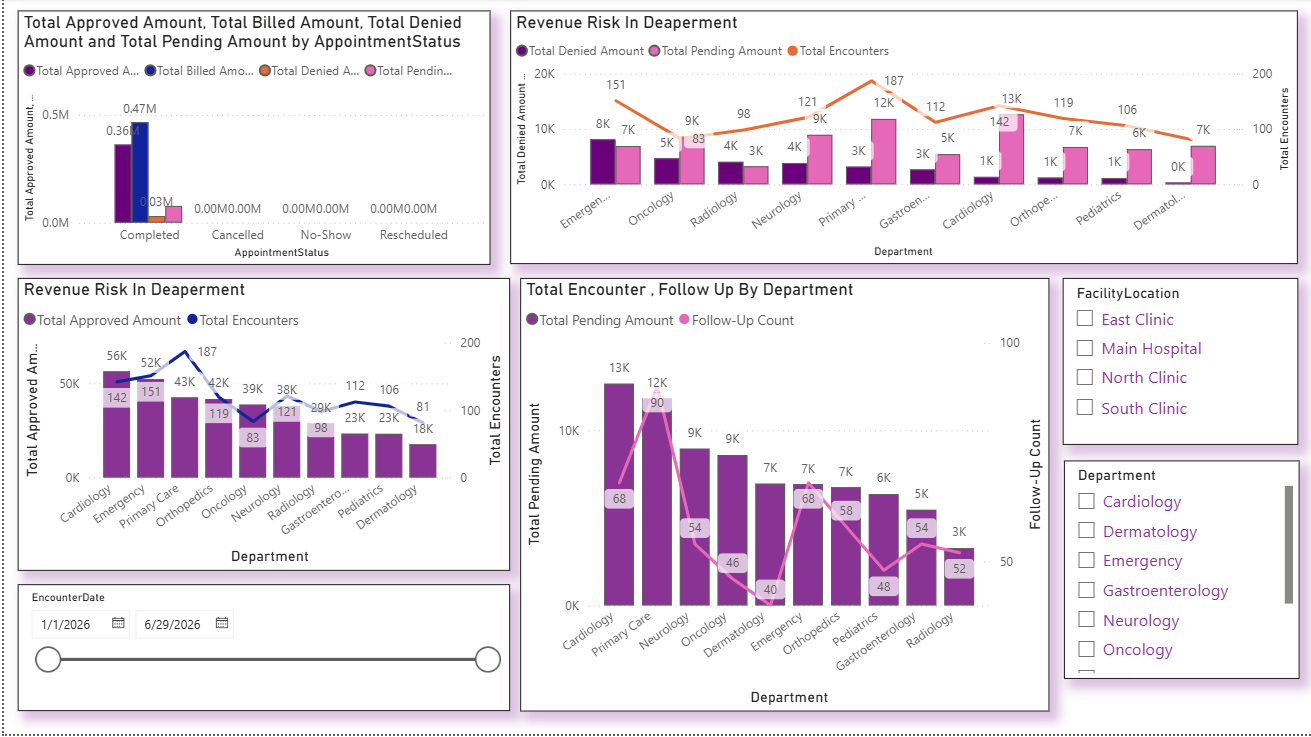

Layout of this report page (visuals, bound fields, positions):
{"tool":"powerbi","page":{"name":"Revenue","canvas":[1280,720],"ordinal":4},"visuals":[{"type":"clusteredColumnChart","fields":{"Y":["ClaimsTable.Total Approved Amount","ClaimsTable.Total Billed Amount","ClaimsTable.Total Denied Amount","ClaimsTable.Total Pending Amount"],"Category":["EncountersTable.AppointmentStatus"]},"box":[13.7,12.4,462.8,248.8],"z":0},{"type":"lineClusteredColumnComboChart","title":"Revenue Risk In Deaperment ","fields":{"Category":["ClaimsTable.Department"],"Y":["ClaimsTable.Total Denied Amount","ClaimsTable.Total Pending Amount"],"Y2":["ClaimsTable.Total Encounters"]},"box":[495.2,12.2,770.4,248.2],"z":1000},{"type":"lineClusteredColumnComboChart","title":"Revenue Risk In Deaperment ","fields":{"Category":["ClaimsTable.Department"],"Y":["ClaimsTable.Total Approved Amount"],"Y2":["ClaimsTable.Total Encounters"]},"box":[13.7,273.7,481.4,286.1],"z":2000},{"type":"slicer","fields":{"Values":["EncountersTable.EncounterDate"]},"box":[13.7,573.5,481.4,124.4],"z":3000},{"type":"lineStackedColumnComboChart","title":"Total Encounter , Follow Up By Department ","fields":{"Category":["ClaimsTable.Department"],"Y":["ClaimsTable.Total Pending Amount"],"Y2":["ClaimsTable.Follow-Up Count"]},"box":[505,273.7,517.5,424.2],"z":4000},{"type":"slicer","fields":{"Values":["EncountersTable.FacilityLocation"]},"box":[1036.2,273.7,230.1,163],"z":5000},{"type":"slicer","fields":{"Values":["EncountersTable.Department"]},"box":[1037.5,452.8,230.1,214],"z":6000}]}

Visuals, with their boxes in screenshot pixels (x1, y1, x2, y2), scaled from the page's 1280x720 canvas onto the 1311x737 screenshot:
clusteredColumnChart - ClaimsTable.Total Approved Amount x ClaimsTable.Total Billed Amount: box=[14, 13, 488, 267]
"Revenue Risk In Deaperment " lineClusteredColumnComboChart: box=[507, 12, 1296, 267]
"Revenue Risk In Deaperment " lineClusteredColumnComboChart: box=[14, 280, 507, 573]
slicer - EncountersTable.EncounterDate: box=[14, 587, 507, 714]
"Total Encounter , Follow Up By Department " lineStackedColumnComboChart: box=[517, 280, 1047, 714]
slicer - EncountersTable.FacilityLocation: box=[1061, 280, 1297, 447]
slicer - EncountersTable.Department: box=[1063, 463, 1298, 683]
